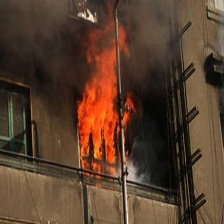fire: (80, 26, 133, 171)
smoke: (9, 1, 193, 65)
